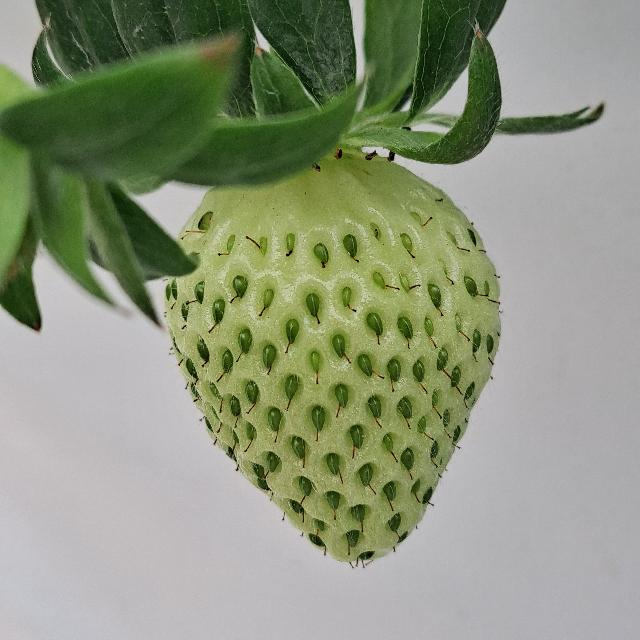Health_25: (164, 146, 501, 562)
